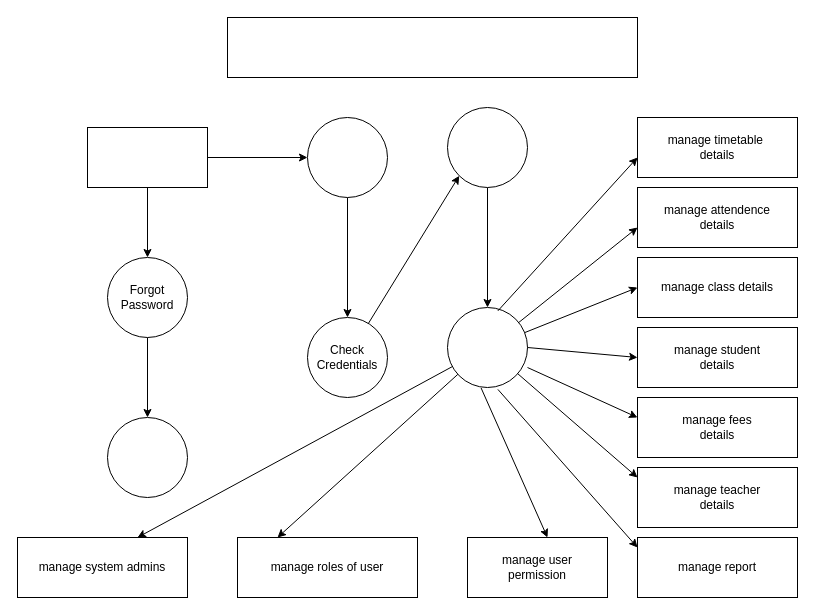
The diagram is 815 pixels wide and 615 high, and some of its shapes have lost their labels. The shapes that lost their labels are listed below. From the top down, each one's box as (x1, y1, x2, y2) in pixels, then its label:
(226, 16, 638, 78): Student imformatin system
(86, 126, 208, 188): Admin
(306, 116, 388, 198): Login to System
(446, 106, 528, 188): Check Roles of Access
(446, 306, 528, 388): Manage Modules
(106, 416, 188, 498): send email to user
